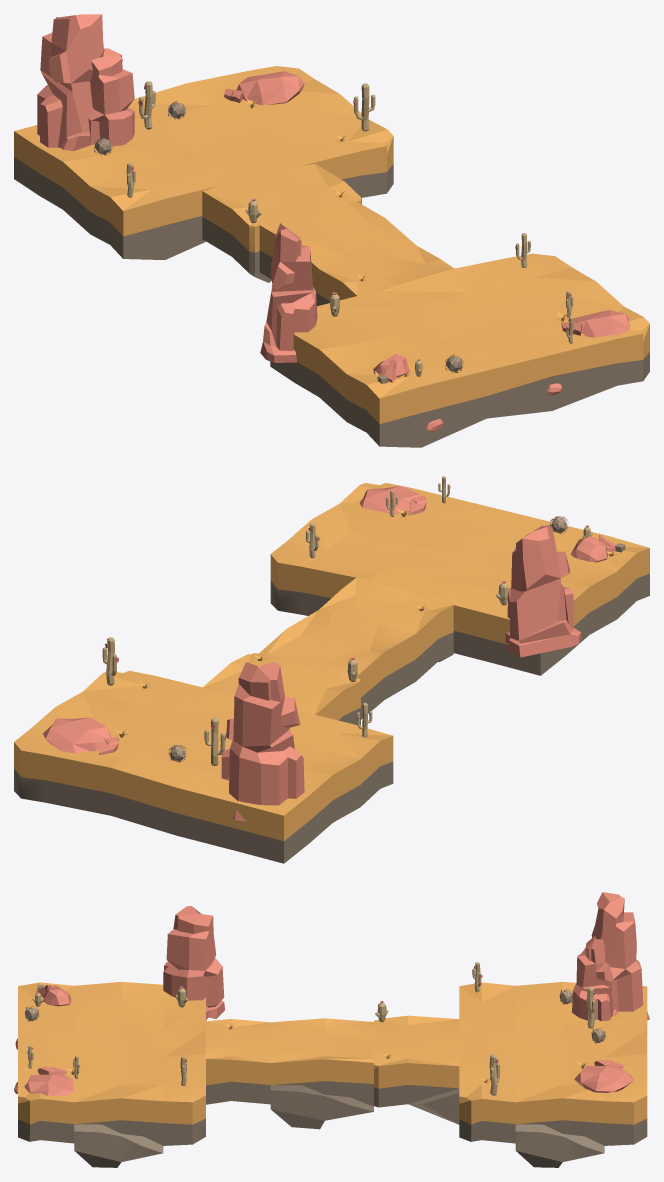
Rendered from Arena_1.fbx.
3 renders of one model, top to bottom at view 1: azimuth 30°, elevation 25°; view 2: azimuth 150°, elevation 25°; view 3: azimuth 270°, elevation 25°, orthographic. The views are drawn at different scales.
Parts seen in each view (by area): view 1: world_field__4_.003, world_field__4_.005, world_field__4_.004, rock03__4_.003, rock03__10_.007, rock03__4_.004, stone_round__13_.004, stone_round__13_.003; view 2: world_field__4_.005, world_field__4_.003, world_field__4_.004, rock03__4_.003, rock03__10_.007, stone_round__13_.004, stone_round__13_.003, stone_round.002, cactus_big__1_.009; view 3: world_field__4_.003, world_field__4_.005, world_field__4_.004, rock03__10_.007, rock03__4_.003, rock03__4_.004, stone_round__13_.004, stone_round__13_.003, stone_round.002.
Boxes of the visible parts, x1,y1,x2,y2 form: world_field__4_.003: [270, 253, 649, 447]; world_field__4_.005: [14, 66, 393, 259]; world_field__4_.004: [202, 164, 454, 306]; rock03__4_.003: [37, 14, 103, 151]; rock03__10_.007: [260, 223, 317, 362]; rock03__4_.004: [88, 48, 134, 146]; stone_round__13_.004: [236, 71, 304, 105]; stone_round__13_.003: [573, 310, 629, 337]; world_field__4_.005: [14, 670, 393, 863]; world_field__4_.003: [270, 483, 649, 675]; world_field__4_.004: [203, 577, 453, 725]; rock03__4_.003: [229, 661, 304, 821]; rock03__10_.007: [505, 525, 581, 657]; stone_round__13_.004: [43, 717, 110, 753]; stone_round__13_.003: [359, 486, 420, 513]; stone_round.002: [571, 536, 608, 562]; cactus_big__1_.009: [204, 717, 225, 765]; world_field__4_.003: [14, 982, 205, 1167]; world_field__4_.005: [459, 982, 647, 1167]; world_field__4_.004: [205, 1015, 459, 1129]; rock03__10_.007: [163, 906, 224, 1020]; rock03__4_.003: [591, 892, 649, 1020]; rock03__4_.004: [572, 936, 617, 1021]; stone_round__13_.004: [574, 1065, 633, 1092]; stone_round__13_.003: [24, 1073, 73, 1095]; stone_round.002: [43, 985, 71, 1006].
Size of the model in its own units: 5532 by 3493 by 11530.
